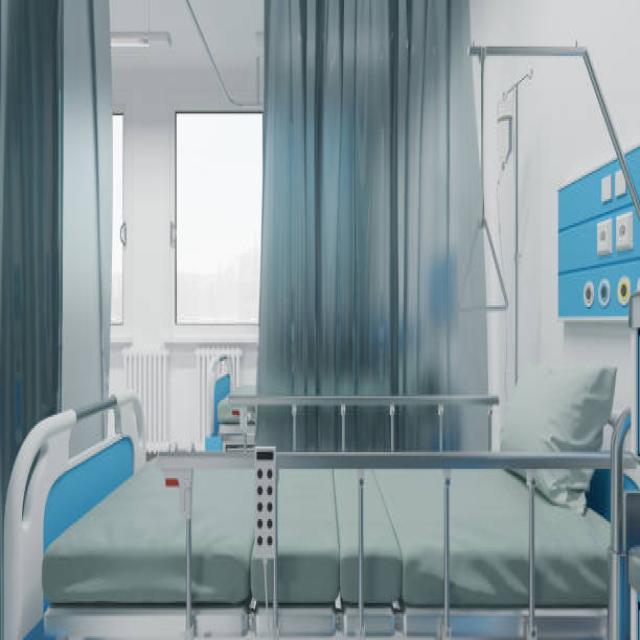bed: (3, 385, 638, 638)
